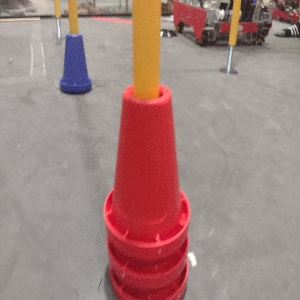Blue_1: (56, 33, 93, 95)
Red_3: (102, 82, 191, 299)
